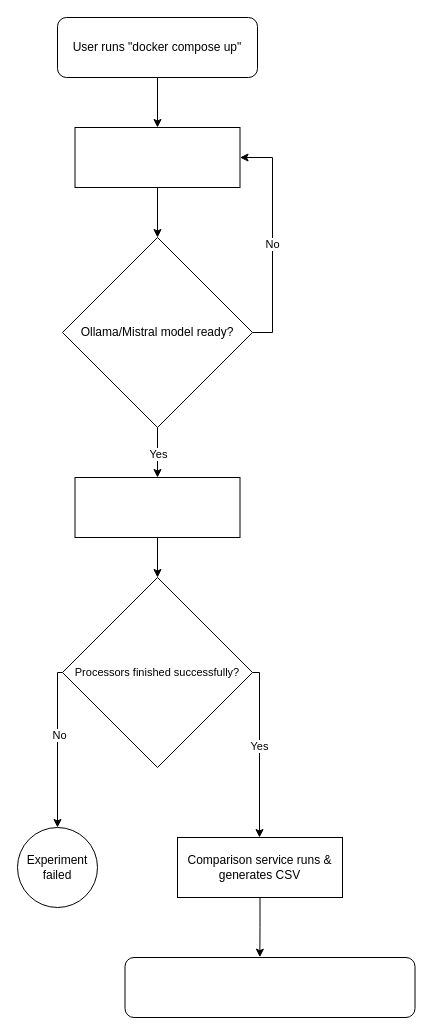
Image size: 433x1035. Some labels were removed from this diagram. The shapes that lost their labels are listed below. From the top down, each one's centre as x and y in pixels, then its label:
At point (157, 157): "Ollama service starts & pulls Mistral model".
At point (157, 507): "Baseline & Text processor run".
At point (269, 987): "Final CSV generated; API & Ollama remain running".
